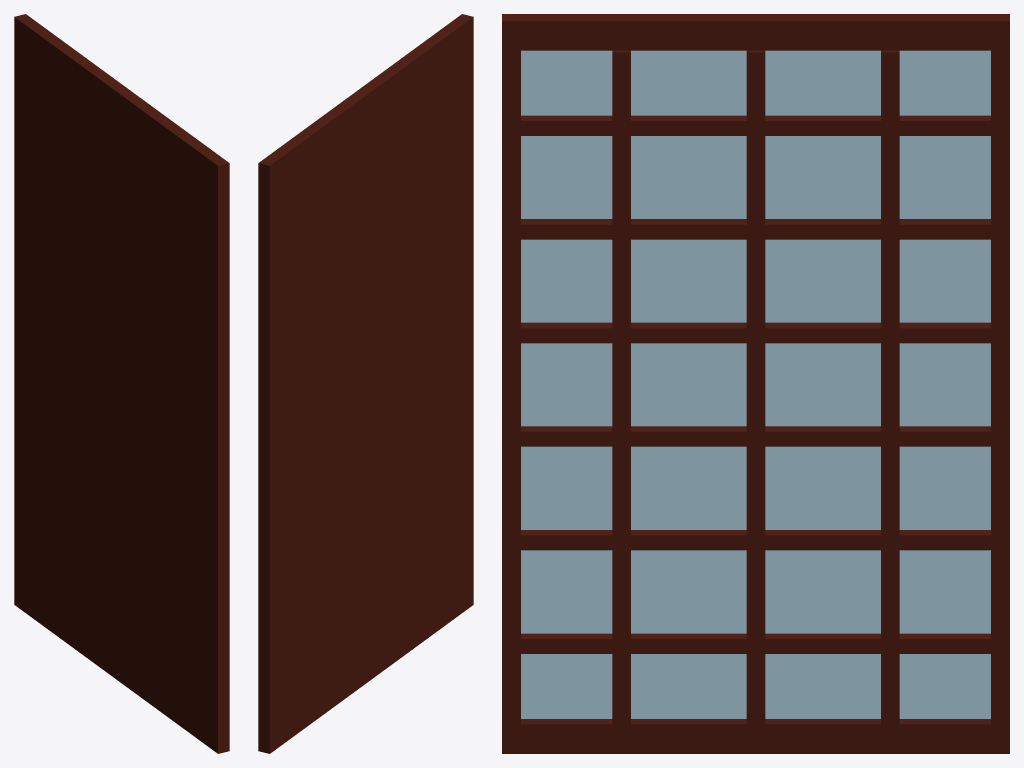
Rendered from okno.fbx.
3 views of the same model, side by side, from view 1: azimuth 30°, elevation 25°; view 2: azimuth 150°, elevation 25°; view 3: azimuth 270°, elevation 25° (orthographic). The views are drawn at different scales.
Parts seen in each view (by area): view 1: Box001; view 2: Box001; view 3: Box001.
Part boxes in pixels (left/top/right/bottom): Box001: left=14, top=14, right=229, bottom=753; Box001: left=258, top=14, right=473, bottom=753; Box001: left=502, top=14, right=1009, bottom=753.
Bounding box in the file's own units: 4.93 × 241 × 151.
